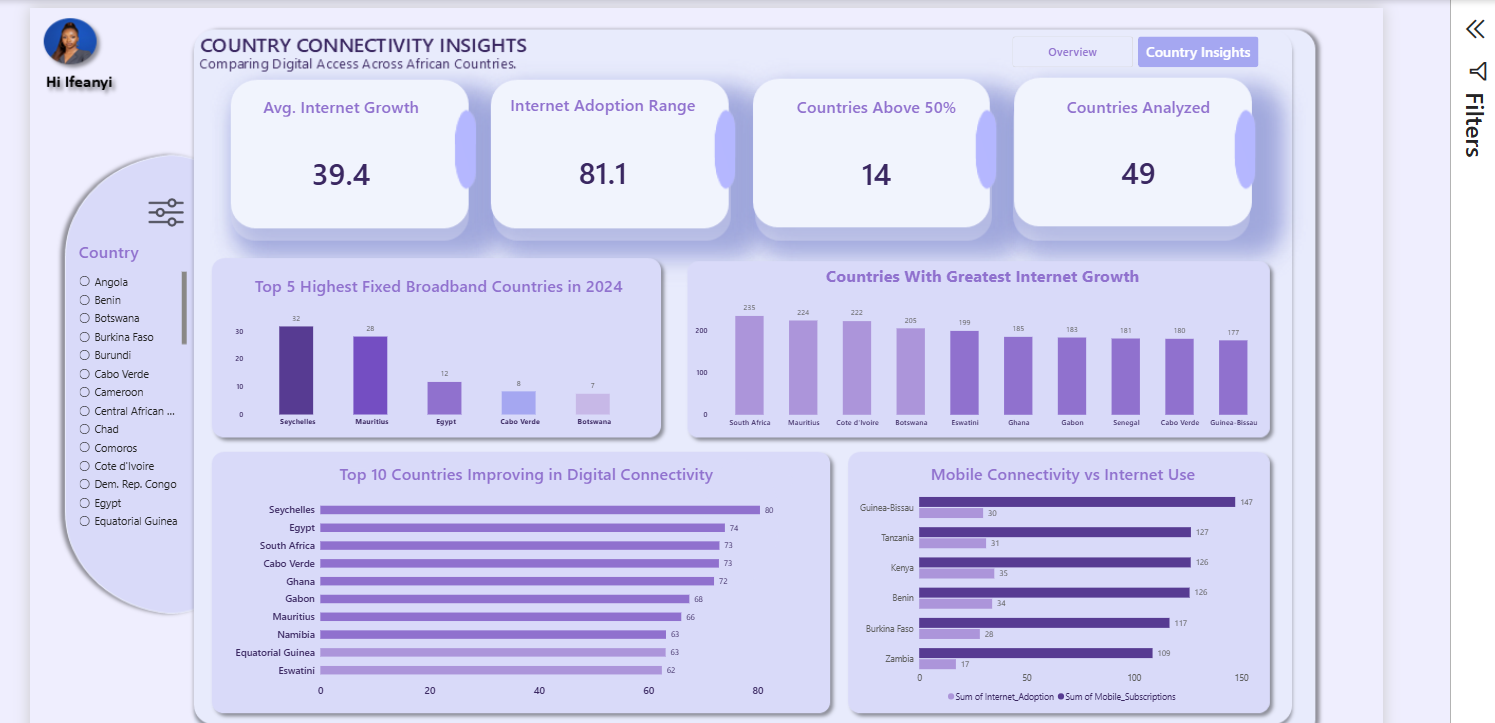

Layout of this report page (visuals, bound fields, positions):
{"tool":"powerbi","page":{"name":"Country Insights","canvas":[2200,1200],"ordinal":1},"visuals":[{"type":"clusteredBarChart","title":"Mobile Connectivity vs Internet Use","fields":{"Category":["Question 4 WDI.CountryName"],"Y":["Sum(Question 4 WDI.Internet_Adoption)","Sum(Question 4 WDI.Mobile_Subscriptions)"]},"box":[1327.8,725,705.6,425],"z":0},{"type":"cardVisual","title":"Avg. Internet Growth","fields":{"Data":["WDI_Technology_Africa_Clean (2).Avg Internet Growthh (2000-2024)"]},"box":[312.5,140.6,387.5,200],"z":1000,"group":"g1"},{"type":"clusteredColumnChart","title":"Top 5 Highest Fixed Broadband Countries in 2024","fields":{"Category":["Question 6 WDI.CountryName"],"Y":["Sum(Question 6 WDI.Fixed_Broadband_2024)"]},"box":[317.5,420,695,282.5],"z":1000},{"type":"clusteredColumnChart","title":"Countries With Greatest Internet Growth","fields":{"Category":["Question 5 WDI.CountryName"],"Y":["Sum(Question 5 WDI.Total_Digital_Improvement)"]},"box":[1066.7,402.8,966.7,300],"z":2000},{"type":"pageNavigator","box":[1597.5,47.5,400,50],"z":3000},{"type":"cardVisual","title":"Internet Adoption Range","fields":{"Data":["WDI_Technology_Africa_Clean (2).Adoption Rangee"]},"box":[736.3,139,390,202.5],"z":3000,"group":"g1"},{"type":"cardVisual","title":"Countries Analyzed","fields":{"Data":["WDI_Technology_Africa_Clean (2).Countries Analyzedd"]},"box":[1606.3,141.4,395,197.5],"z":4000,"group":"g1"},{"type":"image","box":[192.5,302.5,57.5,60],"z":4000},{"type":"group","id":"g1","title":"Group 1","box":[312.5,139,1688.8,202.5],"z":5000},{"type":"cardVisual","title":"Countries Above 50%","fields":{"Data":["WDI_Technology_Africa_Clean (2).Countries Above 50pct Adoptionn"]},"box":[1183.7,141.4,387.5,200],"z":6000,"group":"g1"},{"type":"clusteredBarChart","title":"Top 10 Countries Improving in Digital Connectivity","fields":{"Category":["Question 3 WDI.CountryName"],"Y":["Sum(Question 3 WDI.Increase_Percentage_Points)"]},"box":[316.7,725,980,417.5],"z":6000},{"type":"listSlicer","title":"Country","fields":{"Values":["DimCountry.CountryName"]},"box":[63.9,363.9,207.5,500],"z":7001}]}

Visuals, with their boxes on the page's 2200x1200 design canvas (x1, y1, x2, y2). These are canvas units, not pixel positions in the 1495x723 screenshot, which may show the page scaled, cropped or inside an application window:
"Mobile Connectivity vs Internet Use" clusteredBarChart: 1328,725,2033,1150
"Avg. Internet Growth" cardVisual: 312,141,700,341
"Top 5 Highest Fixed Broadband Countries in 2024" clusteredColumnChart: 318,420,1012,702
"Countries With Greatest Internet Growth" clusteredColumnChart: 1067,403,2033,703
pageNavigator: 1598,48,1998,98
"Internet Adoption Range" cardVisual: 736,139,1126,342
"Countries Analyzed" cardVisual: 1606,141,2001,339
image: 192,302,250,362
"Group 1" group: 312,139,2001,342
"Countries Above 50%" cardVisual: 1184,141,1571,341
"Top 10 Countries Improving in Digital Connectivity" clusteredBarChart: 317,725,1297,1142
"Country" listSlicer: 64,364,271,864
